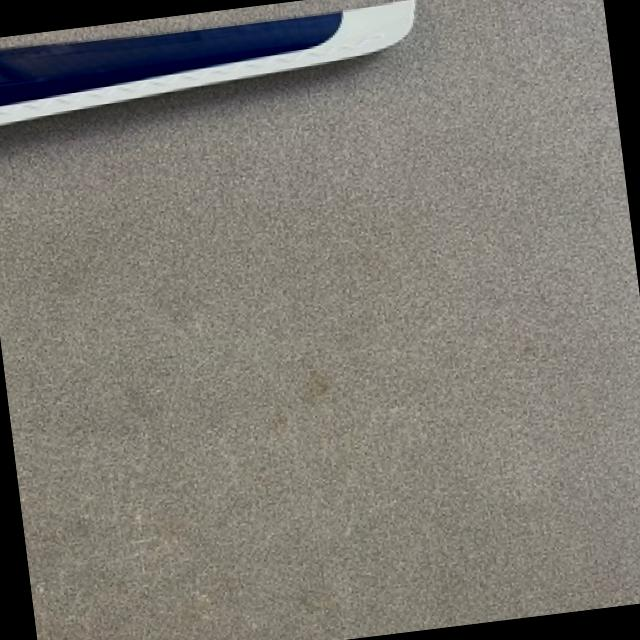healthy: (0, 0, 417, 123)
